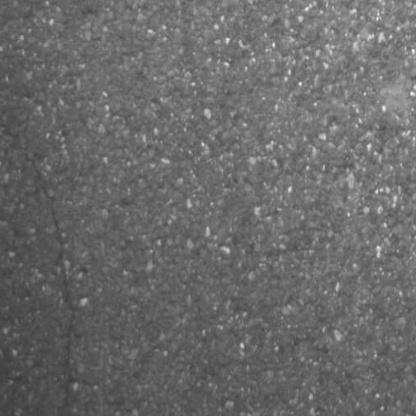Cracks: (0, 130, 101, 416)
